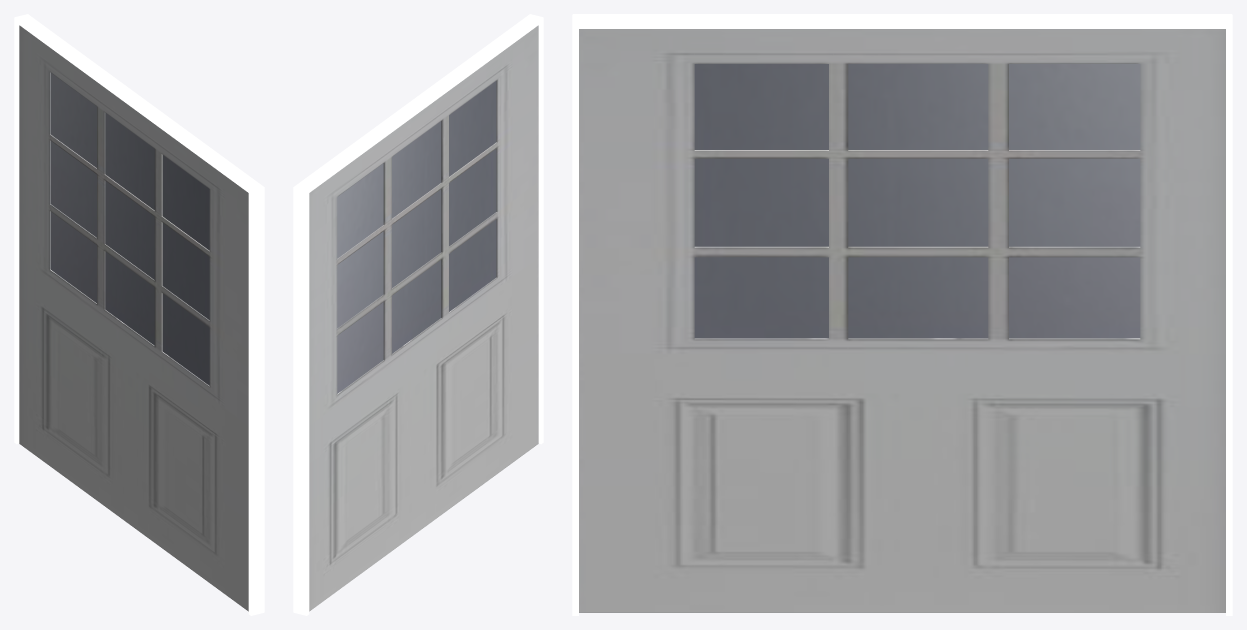
File: 9lite-walk-door.05c53fab.gltf
The picture shows the model from 3 angles, left to right: view 1: azimuth 30°, elevation 25°; view 2: azimuth 150°, elevation 25°; view 3: azimuth 270°, elevation 25°; orthographic projection. The views are drawn at different scales.
Visible parts, largest first — view 1: doors, Glass, trims; view 2: doors, Glass, trims; view 3: doors, Glass, trims.
Boxes of the visible parts, x1,y1,x2,y2 form: doors: [19, 25, 248, 611]; Glass: [50, 73, 209, 385]; trims: [14, 14, 264, 615]; doors: [309, 25, 538, 611]; Glass: [337, 81, 496, 393]; trims: [293, 14, 543, 615]; doors: [579, 29, 1225, 612]; Glass: [694, 64, 1140, 338]; trims: [572, 14, 1232, 615].
Size of the model in its own units: 0.2 by 6.01 by 6.07.
3 materials, 2 textured.
